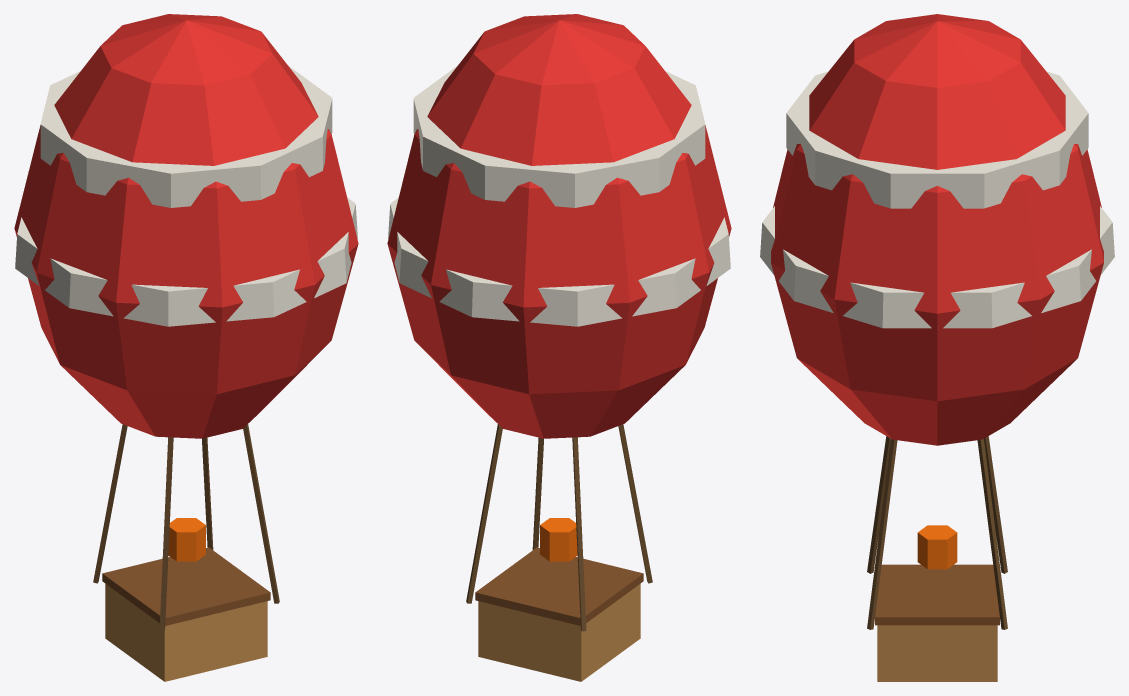
Rendered from sky_balloon_red.glb.
3 renders of one model, left to right at view 1: azimuth 30°, elevation 25°; view 2: azimuth 150°, elevation 25°; view 3: azimuth 270°, elevation 25°, orthographic.
Parts seen in each view (by area): view 1: balloon_red; view 2: balloon_red; view 3: balloon_red.
Part boxes in pixels (x1,y1,x2,y2): balloon_red: [14, 14, 358, 681]; balloon_red: [387, 14, 731, 681]; balloon_red: [760, 14, 1114, 681].
Bounding box in the file's own units: 3.2 × 6.4 × 3.24.
